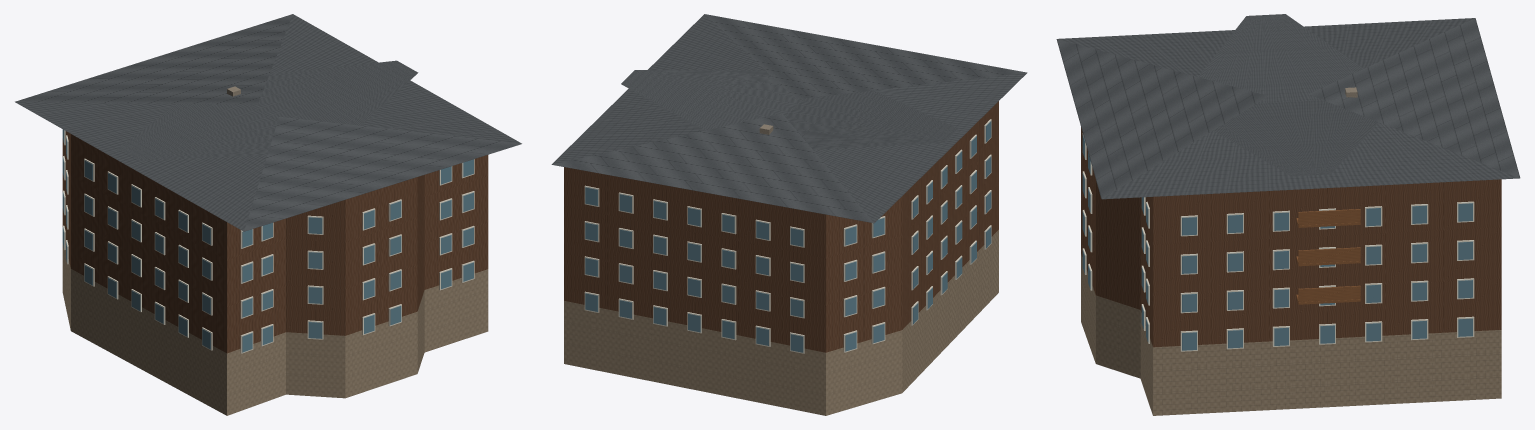
File: core_0018.gltf
3 views of the same model, side by side, from view 1: azimuth 30°, elevation 25°; view 2: azimuth 150°, elevation 25°; view 3: azimuth 270°, elevation 25° (orthographic). The views are drawn at different scales.
Parts seen in each view (by area): view 1: core_0018; view 2: core_0018; view 3: core_0018.
Boxes of the visible parts, x1,y1,x2,y2 form: core_0018: (15,14,521,415); core_0018: (551,14,1027,415); core_0018: (1056,14,1520,415).
Size of the model in its own units: 28.88 by 17.65 by 31.21.
Materials: 7 (7 with a texture image).
